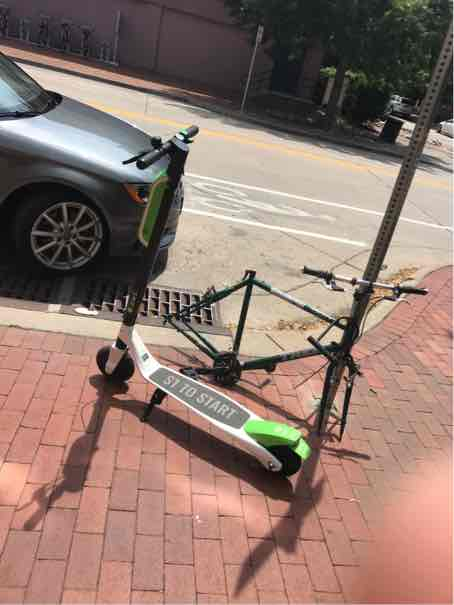scooter: (103, 107, 316, 495)
